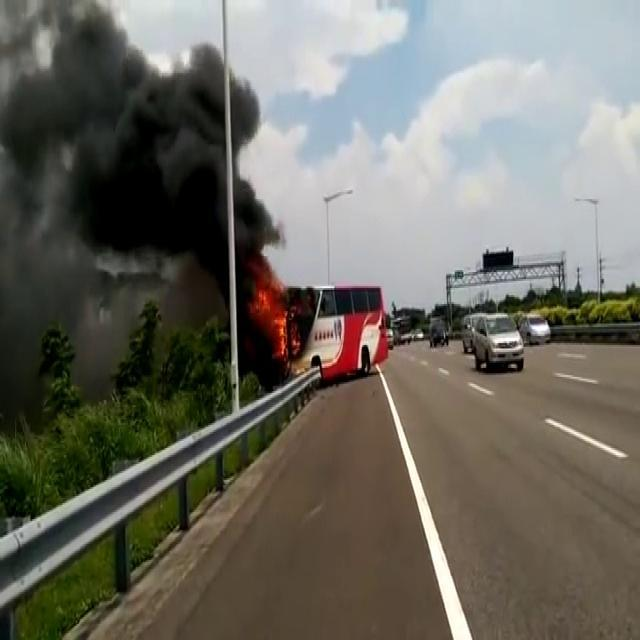Fire: (254, 276, 290, 366)
Smoke: (0, 1, 277, 376)
